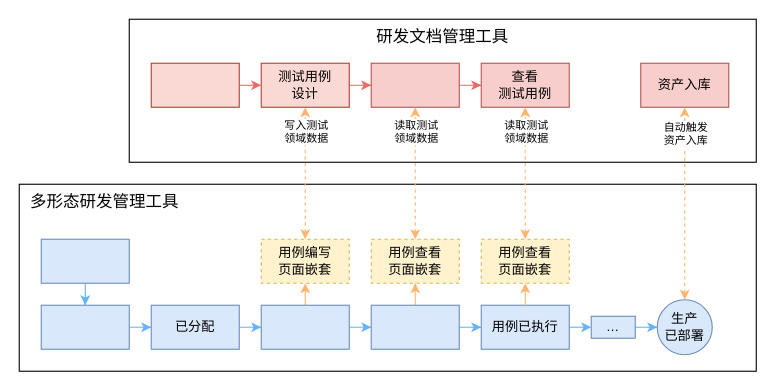
Some shapes in this 776 by 391 pixel diagram are drawn without their labels. The shapes that lost their labels are listed below. From the top down, each one's centre as x and y in pixels, then its label:
pixel 194 84: 测试用例 模板
pixel 414 84: 测试用例 评审
pixel 84 260: 新建 测试任务
pixel 84 326: 已提交
pixel 304 326: 用例已设计
pixel 414 326: 用例已评审
